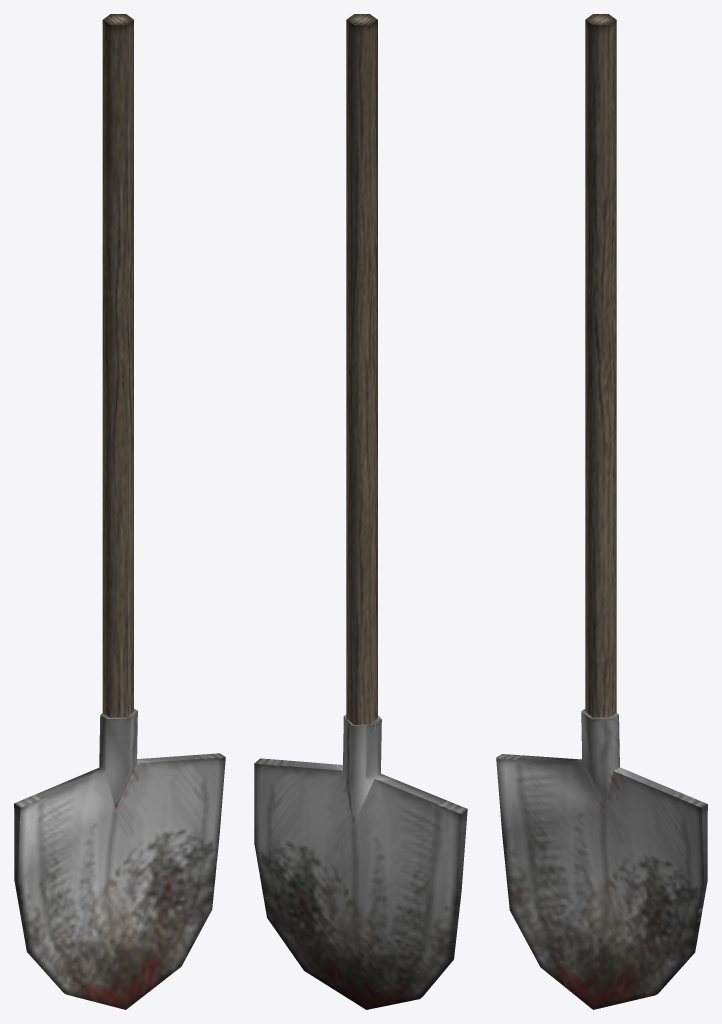
Rendered from shovel.fbx.
The picture shows the model from 3 angles, left to right: view 1: azimuth 30°, elevation 25°; view 2: azimuth 150°, elevation 25°; view 3: azimuth 330°, elevation 25°; orthographic projection.
Visible parts, largest first — view 1: polySurface1899; view 2: polySurface1899; view 3: polySurface1899.
Part boxes in pixels (<box>): polySurface1899: <box>14,14,225,1009</box>; polySurface1899: <box>254,14,467,1009</box>; polySurface1899: <box>496,14,707,1009</box>.
Bounding box in the file's own units: 36.53 × 167 × 6.42.
